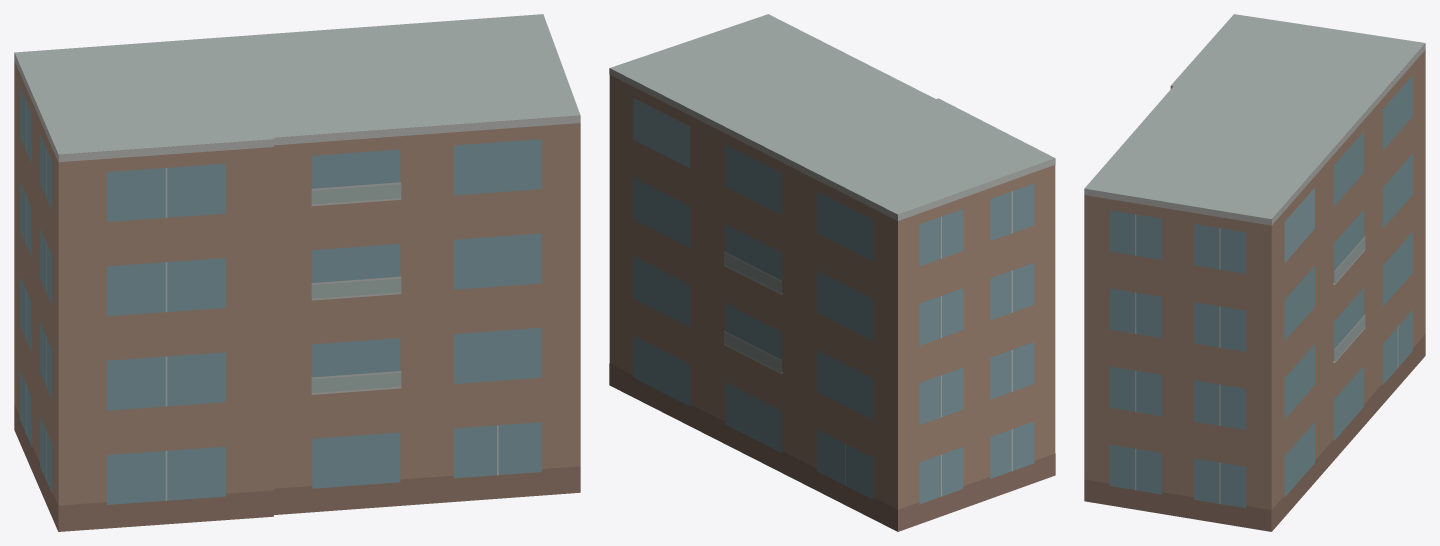
The model's file is survey-upis-32889831.glb.
The picture shows the model from 3 angles, left to right: view 1: azimuth 30°, elevation 25°; view 2: azimuth 150°, elevation 25°; view 3: azimuth 270°, elevation 25°; orthographic projection. The views are drawn at different scales.
Parts seen in each view (by area): view 1: survey-upis-32889831.tmp; view 2: survey-upis-32889831.tmp; view 3: survey-upis-32889831.tmp.
Boxes of the visible parts, x1,y1,x2,y2 form: survey-upis-32889831.tmp: [14, 14, 580, 531]; survey-upis-32889831.tmp: [609, 14, 1055, 531]; survey-upis-32889831.tmp: [1084, 14, 1425, 531].
Size of the model in its own units: 16.76 by 11.9 by 11.79.
